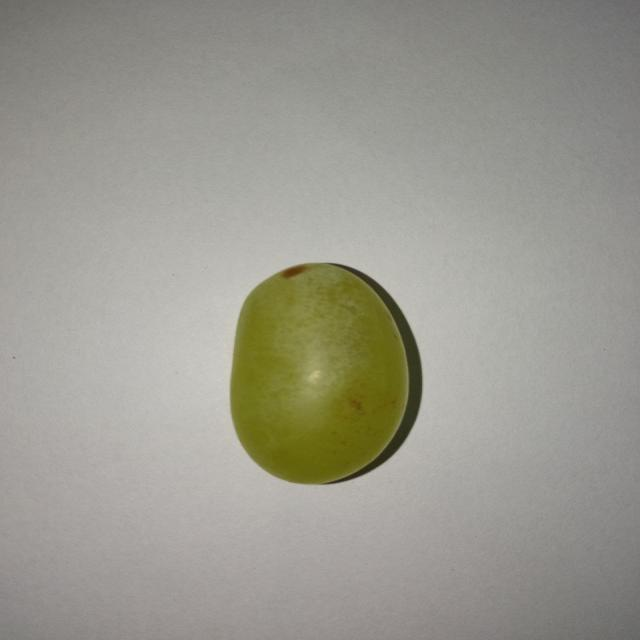fresh_grape: (235, 267, 403, 481)
